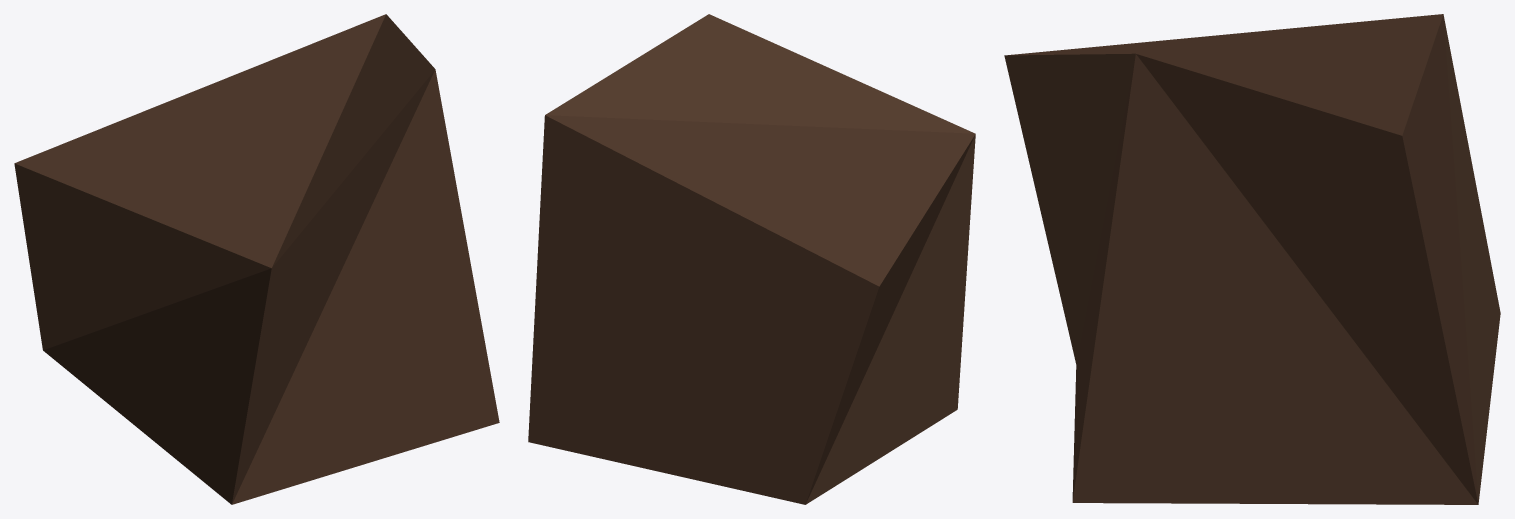
File: proj.fbx
3 views of the same model, side by side, from view 1: azimuth 30°, elevation 25°; view 2: azimuth 150°, elevation 25°; view 3: azimuth 270°, elevation 25° (orthographic). The views are drawn at different scales.
Visible parts, largest first — view 1: Cube; view 2: Cube; view 3: Cube.
Boxes of the visible parts, <box> form: Cube: <box>14,14,499,504</box>; Cube: <box>528,14,975,504</box>; Cube: <box>1004,14,1500,504</box>.
Size of the model in its own units: 54.35 by 52.99 by 53.15.
1 material, 1 textured.
